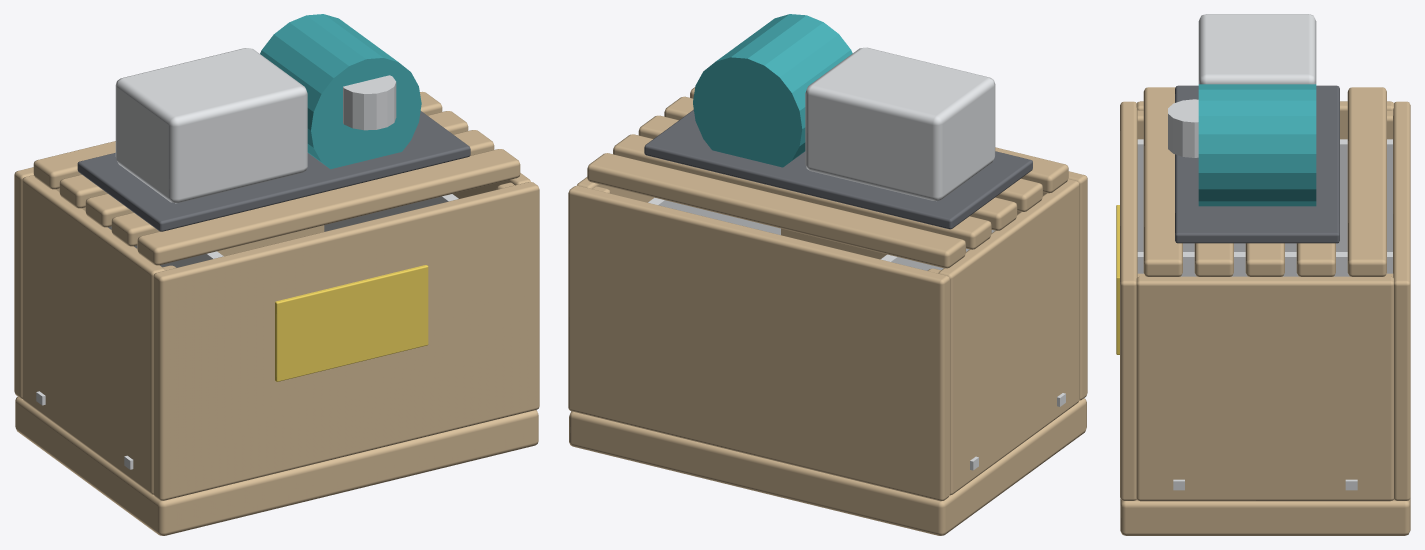
Rendered from public-aquarium-and-marine-centre-spare-pump-crate-689322fe__34190.glb.
The picture shows the model from 3 angles, left to right: view 1: azimuth 30°, elevation 25°; view 2: azimuth 150°, elevation 25°; view 3: azimuth 270°, elevation 25°; orthographic projection.
Parts seen in each view (by area): view 1: spare-pump-crate; view 2: spare-pump-crate; view 3: spare-pump-crate.
Part boxes in pixels (bbox=[...]): spare-pump-crate: bbox=[14, 14, 539, 535]; spare-pump-crate: bbox=[568, 14, 1087, 535]; spare-pump-crate: bbox=[1116, 14, 1410, 535].
Size of the model in its own units: 1.12 by 1.08 by 0.7505.
